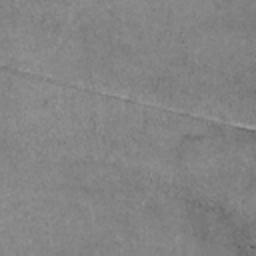Finishing roll printing: (1, 63, 256, 133)
